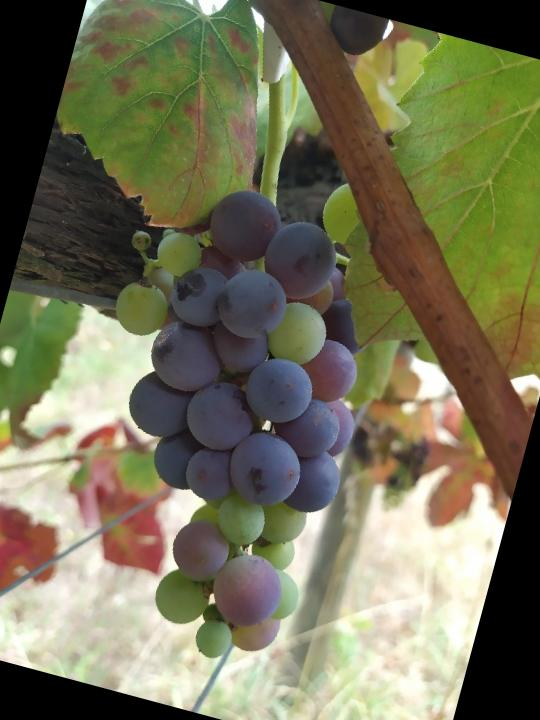grape: (29, 161, 412, 682)
